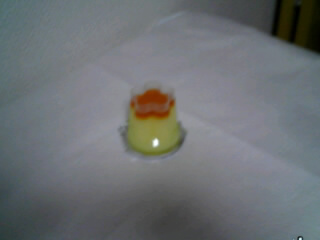001_classes: (107, 79, 196, 160)
